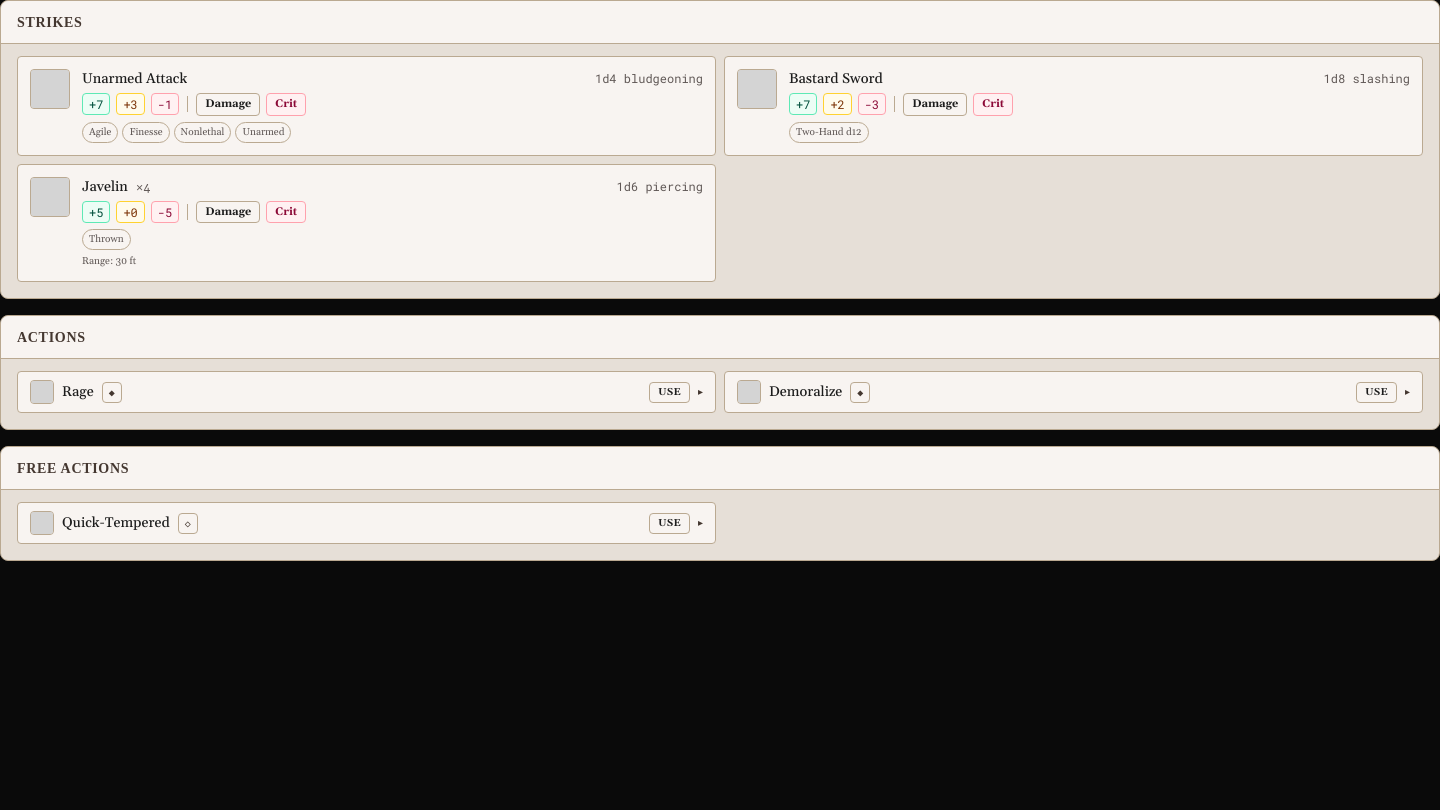
Test case: Actions tab — action items › collapses action cards by default and expands on click
The image size is (1440, 810).
Click the heading "Rage ◆ Use ▸" at [78, 392], box [18,372,715,412]
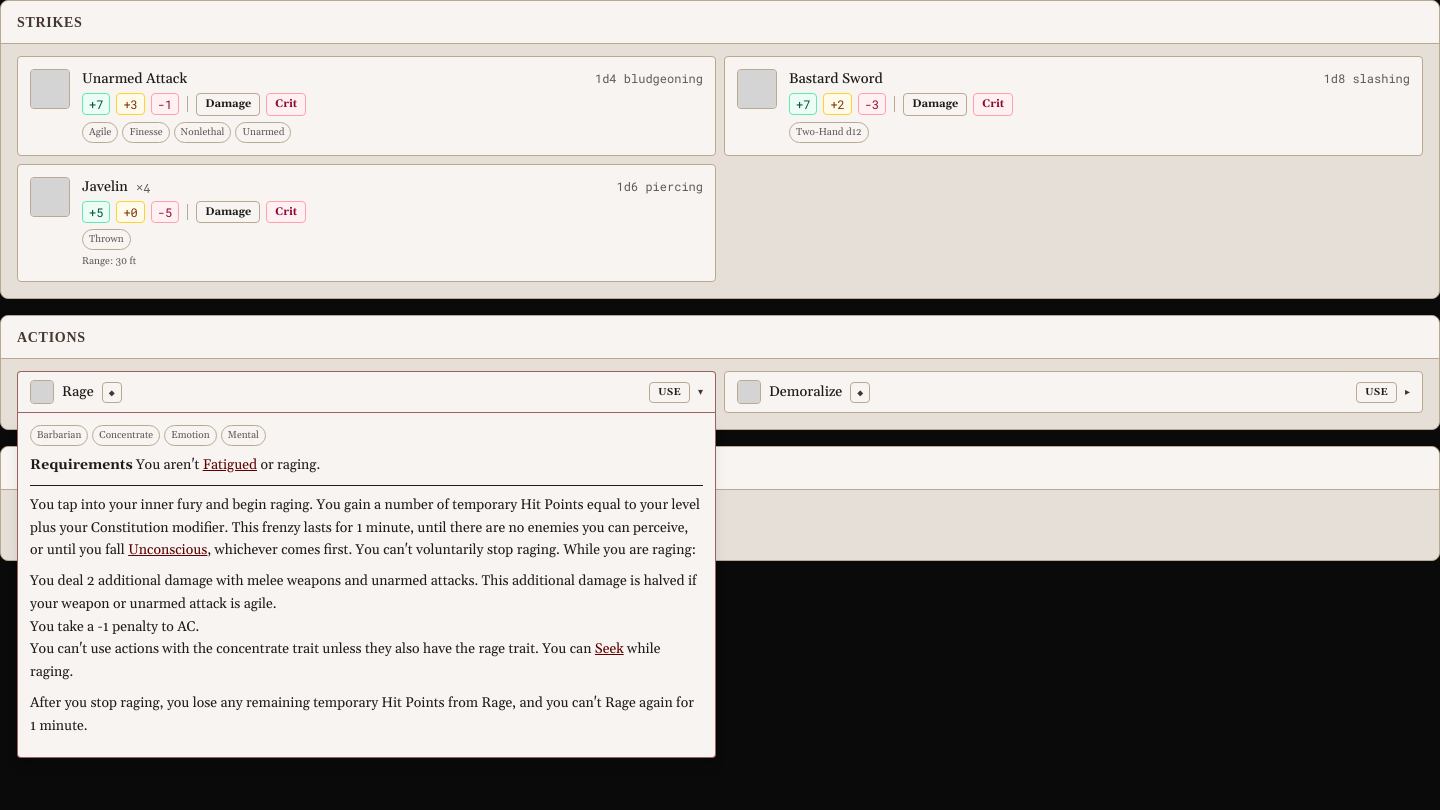
expect the element that starts with "Barbarian" is shown: met, box [30,425,703,737]
expect the element that starts with "Barbarian" shows "inner fury": met, box [30,496,700,559]
